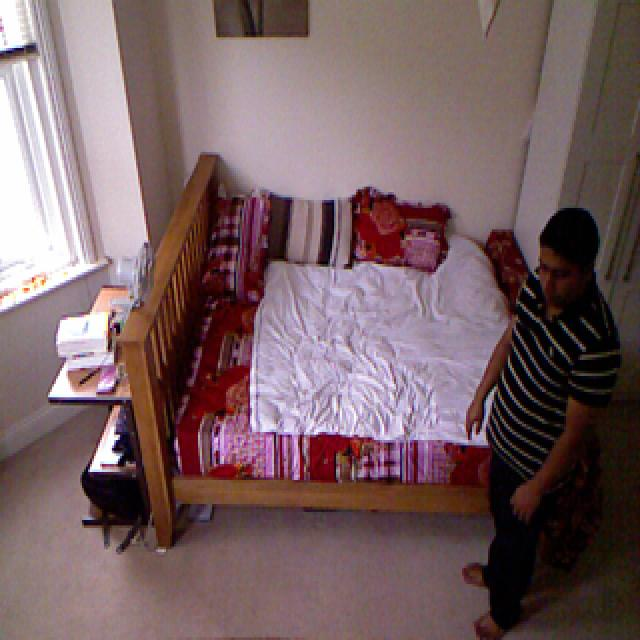standing: (470, 212, 640, 640)
